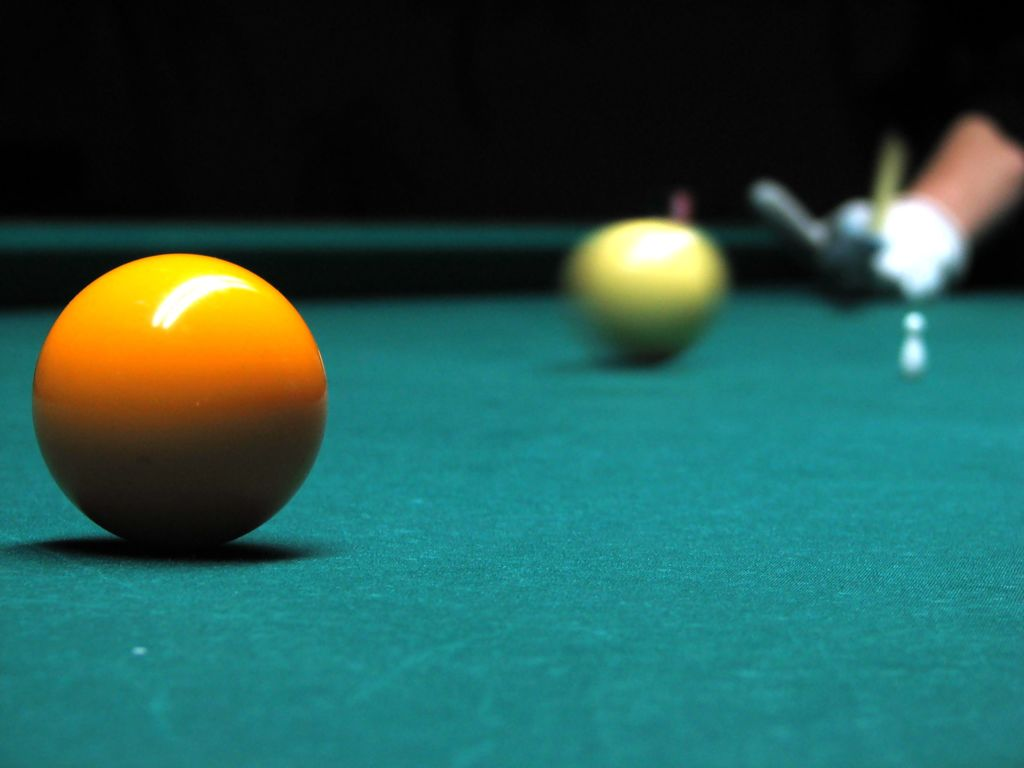Ball: (33, 254, 328, 550), (569, 219, 728, 359)
